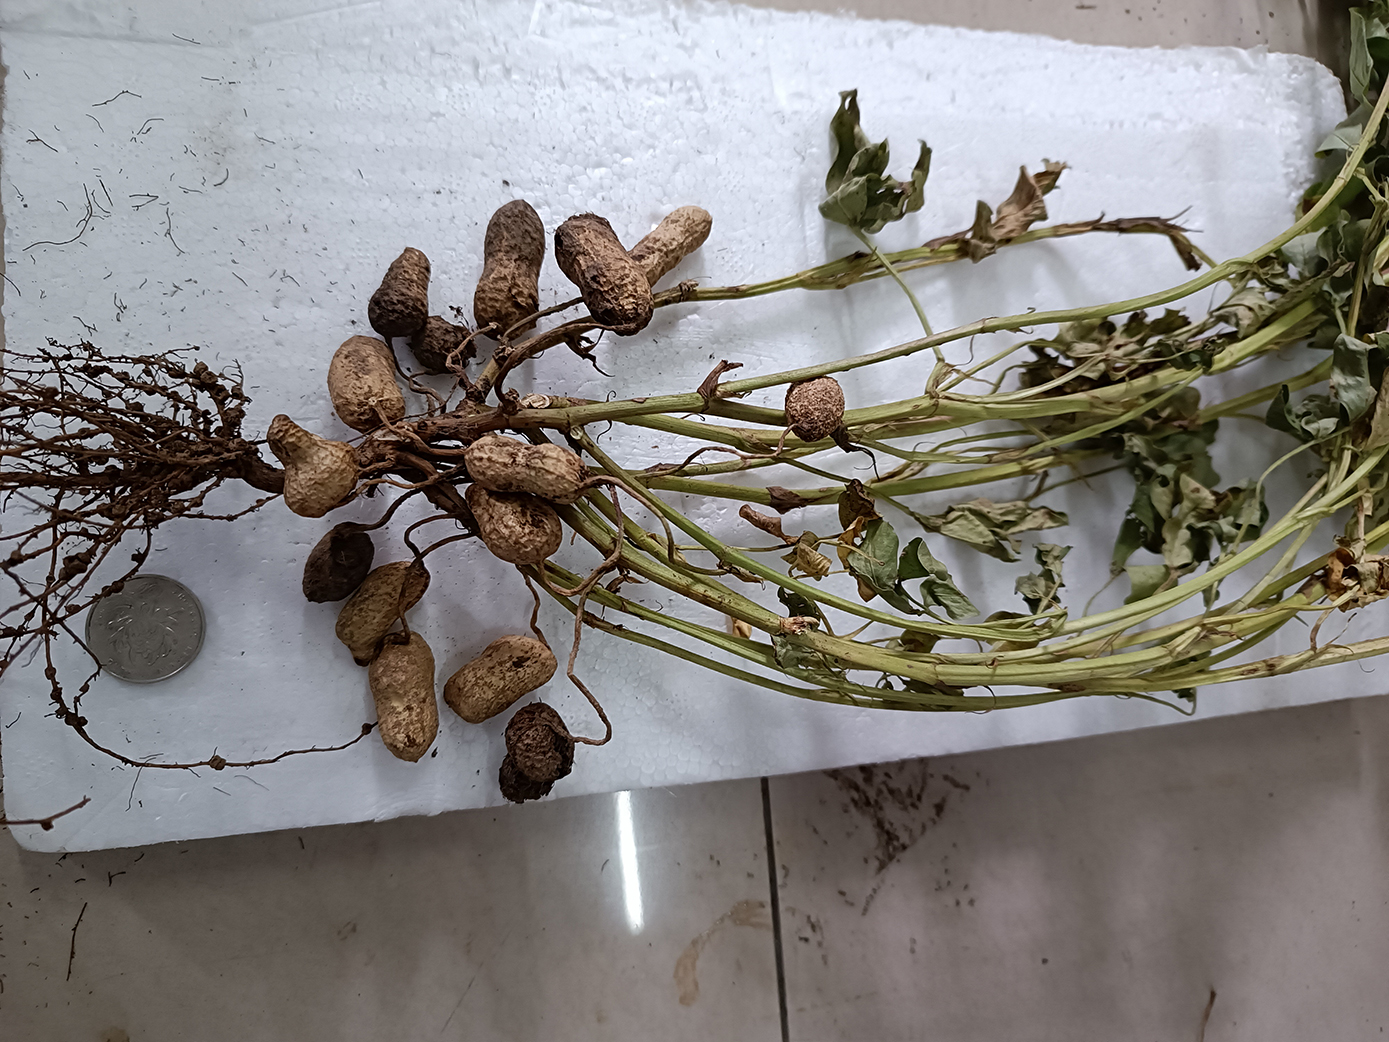h: (444, 634, 558, 725), (335, 561, 431, 668), (267, 414, 359, 520), (369, 630, 441, 762), (463, 435, 588, 506), (327, 334, 407, 431), (465, 483, 564, 561), (628, 205, 711, 288), (785, 377, 845, 442)
l: (553, 213, 653, 335), (474, 199, 546, 341), (499, 702, 576, 804), (302, 521, 375, 603), (367, 245, 431, 338), (410, 315, 475, 375)
